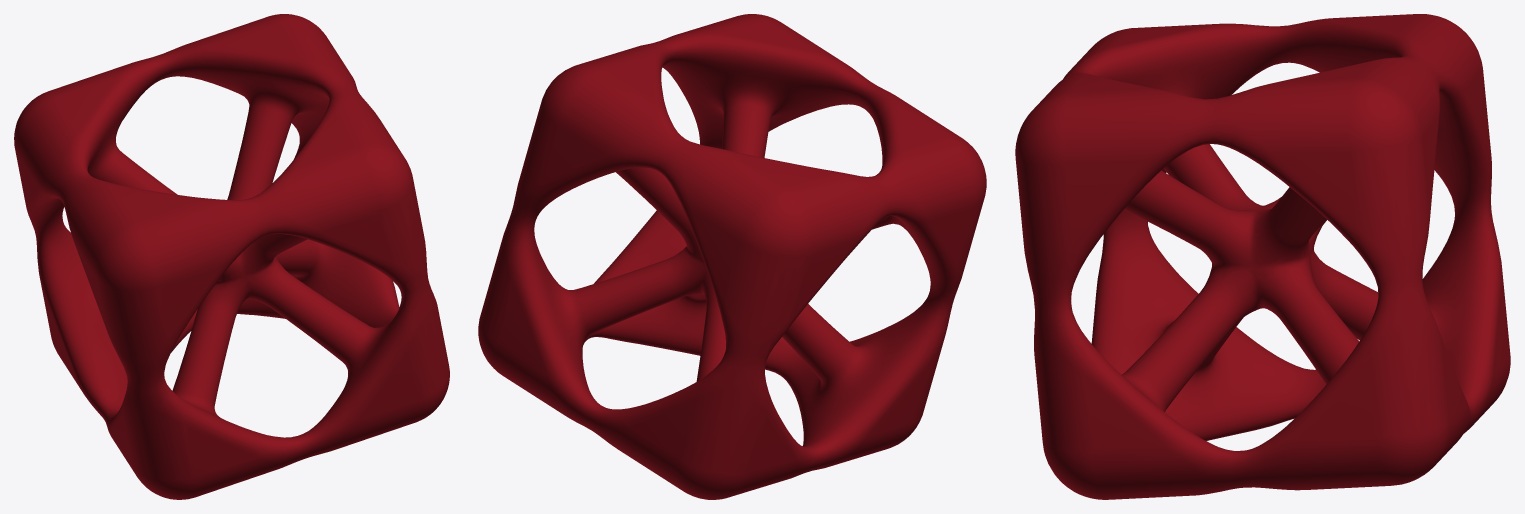
The model's file is crimson-cell.glb.
3 renders of one model, left to right at view 1: azimuth 30°, elevation 25°; view 2: azimuth 150°, elevation 25°; view 3: azimuth 270°, elevation 25°, orthographic. The views are drawn at different scales.
Visible parts, largest first — view 1: Crimson Cell; view 2: Crimson Cell; view 3: Crimson Cell.
Part boxes in pixels (bbox=[...]): Crimson Cell: bbox=[14, 14, 449, 499]; Crimson Cell: bbox=[478, 14, 986, 499]; Crimson Cell: bbox=[1015, 14, 1510, 499].
Bounding box in the file's own units: 3.51 × 3.41 × 3.33.
